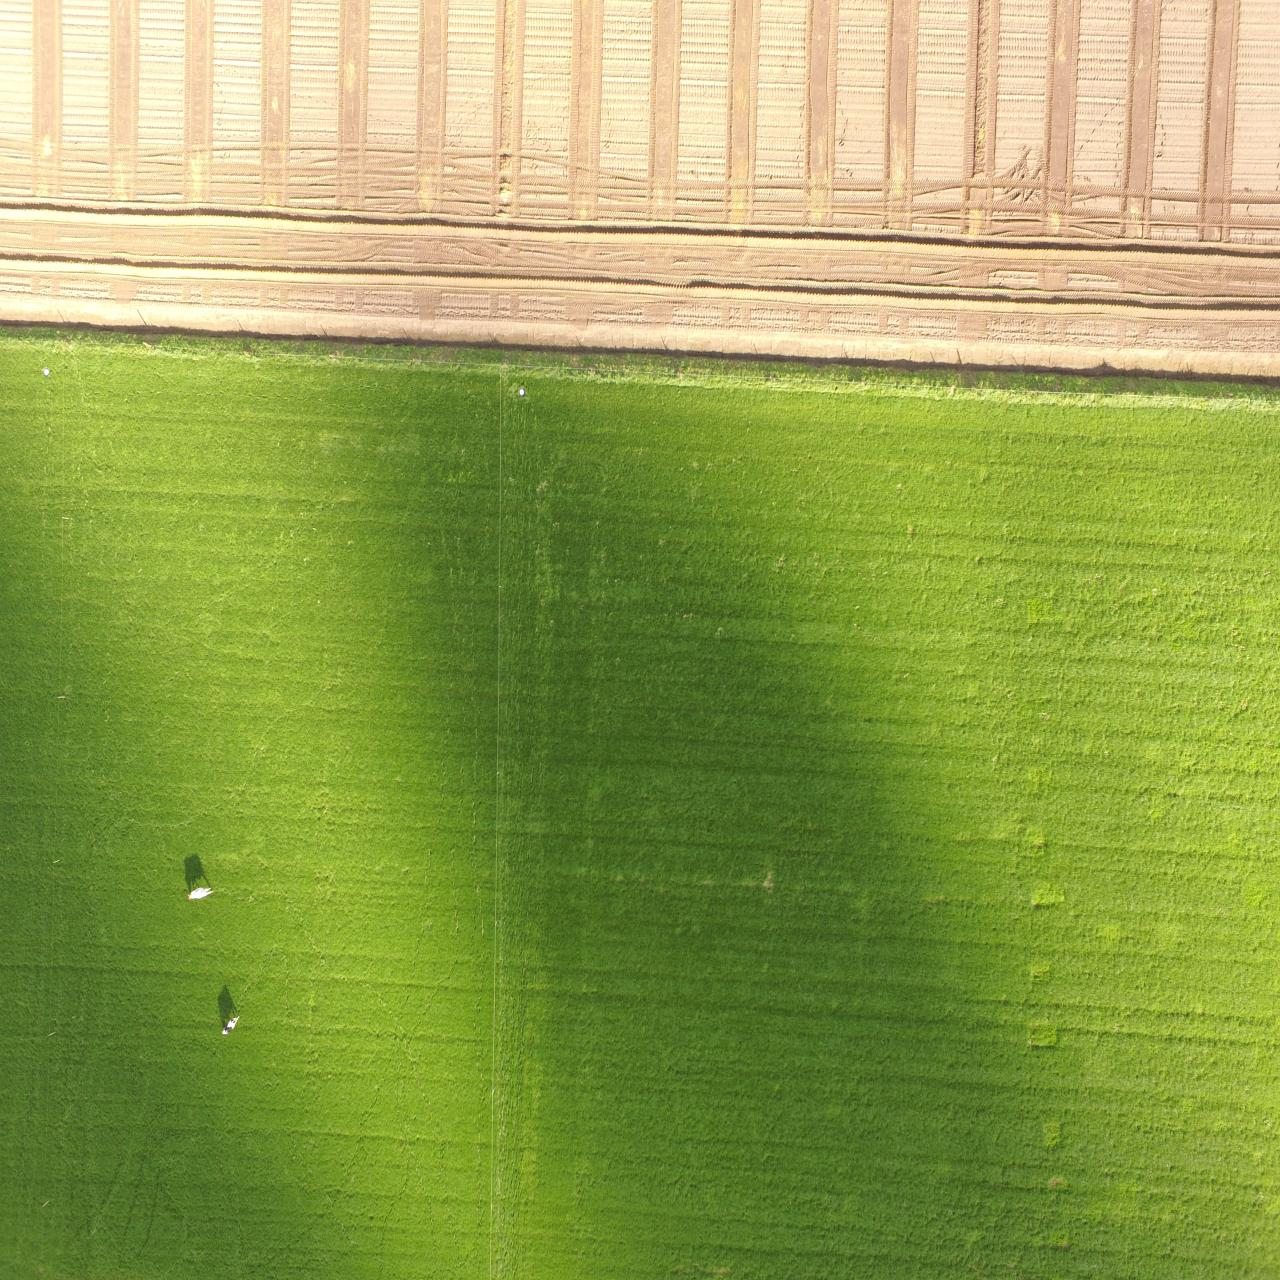cow: (188, 884, 215, 903), (220, 1012, 240, 1036)
